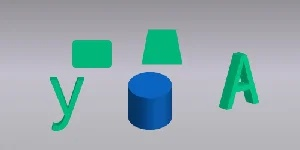圆柱体: (127, 71, 174, 132)
圆角矩形: (70, 38, 116, 70)
大写字母: (216, 51, 263, 109)
小写字母: (46, 74, 84, 132)
梯形: (142, 27, 185, 67)
